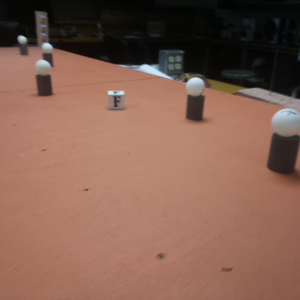blockF: (108, 89, 125, 109)
corner: (34, 10, 48, 45)
obstacle: (266, 108, 300, 174), (185, 76, 208, 122), (32, 58, 54, 95), (42, 42, 55, 66), (17, 35, 29, 54)
